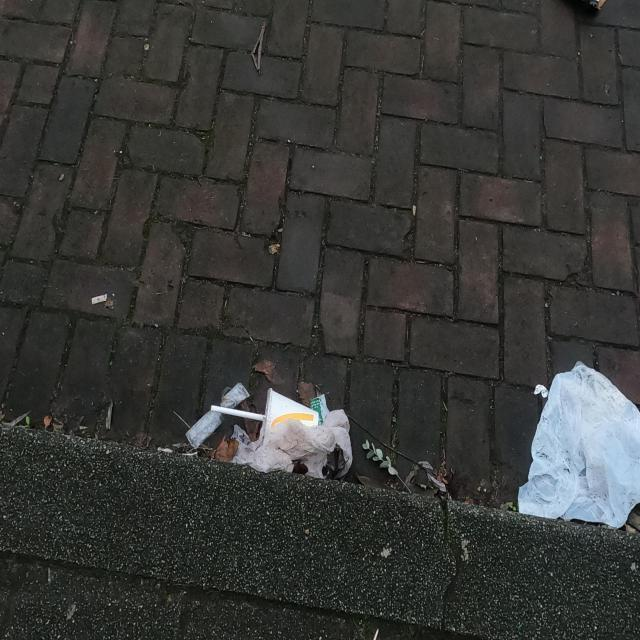Cup: (215, 392, 320, 434)
Paper: (516, 358, 640, 533), (244, 432, 354, 480)
